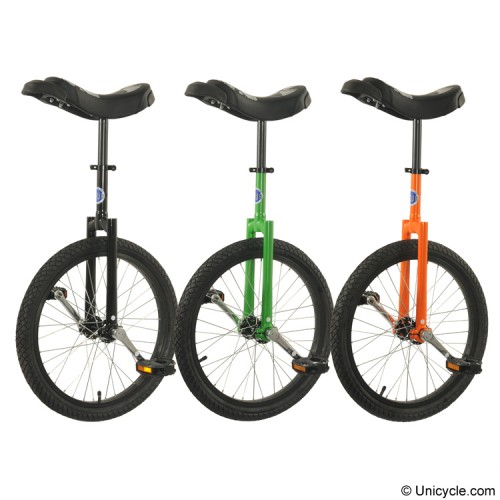seat: (22, 73, 156, 118), (184, 76, 315, 120), (339, 76, 467, 118)
wheel: (328, 237, 490, 419), (19, 238, 177, 423), (182, 241, 333, 423)
